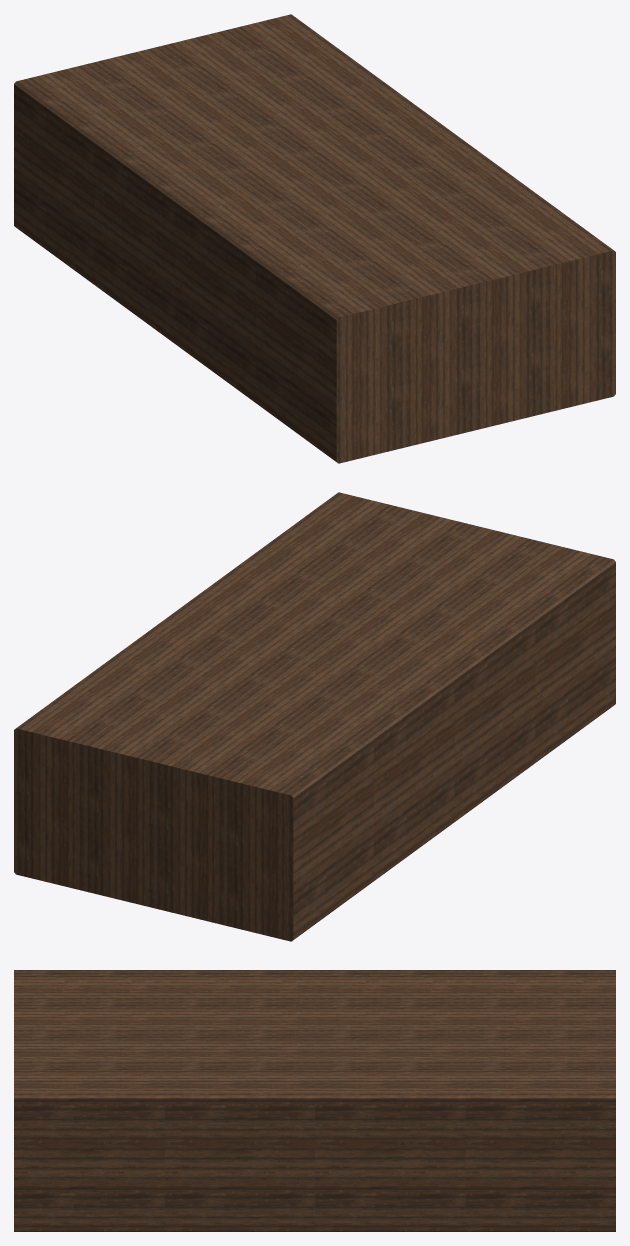
The model's file is planterwall2x4.fbx.
3 views of the same model, one above another, from view 1: azimuth 30°, elevation 25°; view 2: azimuth 150°, elevation 25°; view 3: azimuth 270°, elevation 25° (orthographic). The views are drawn at different scales.
Parts seen in each view (by area): view 1: pCube1; view 2: pCube1; view 3: pCube1.
Boxes of the visible parts, box(x1,y1,x2,y2) form: pCube1: box(14, 14, 615, 463); pCube1: box(14, 492, 615, 941); pCube1: box(14, 970, 615, 1231).
Size of the model in its own units: 200 by 100 by 400.
